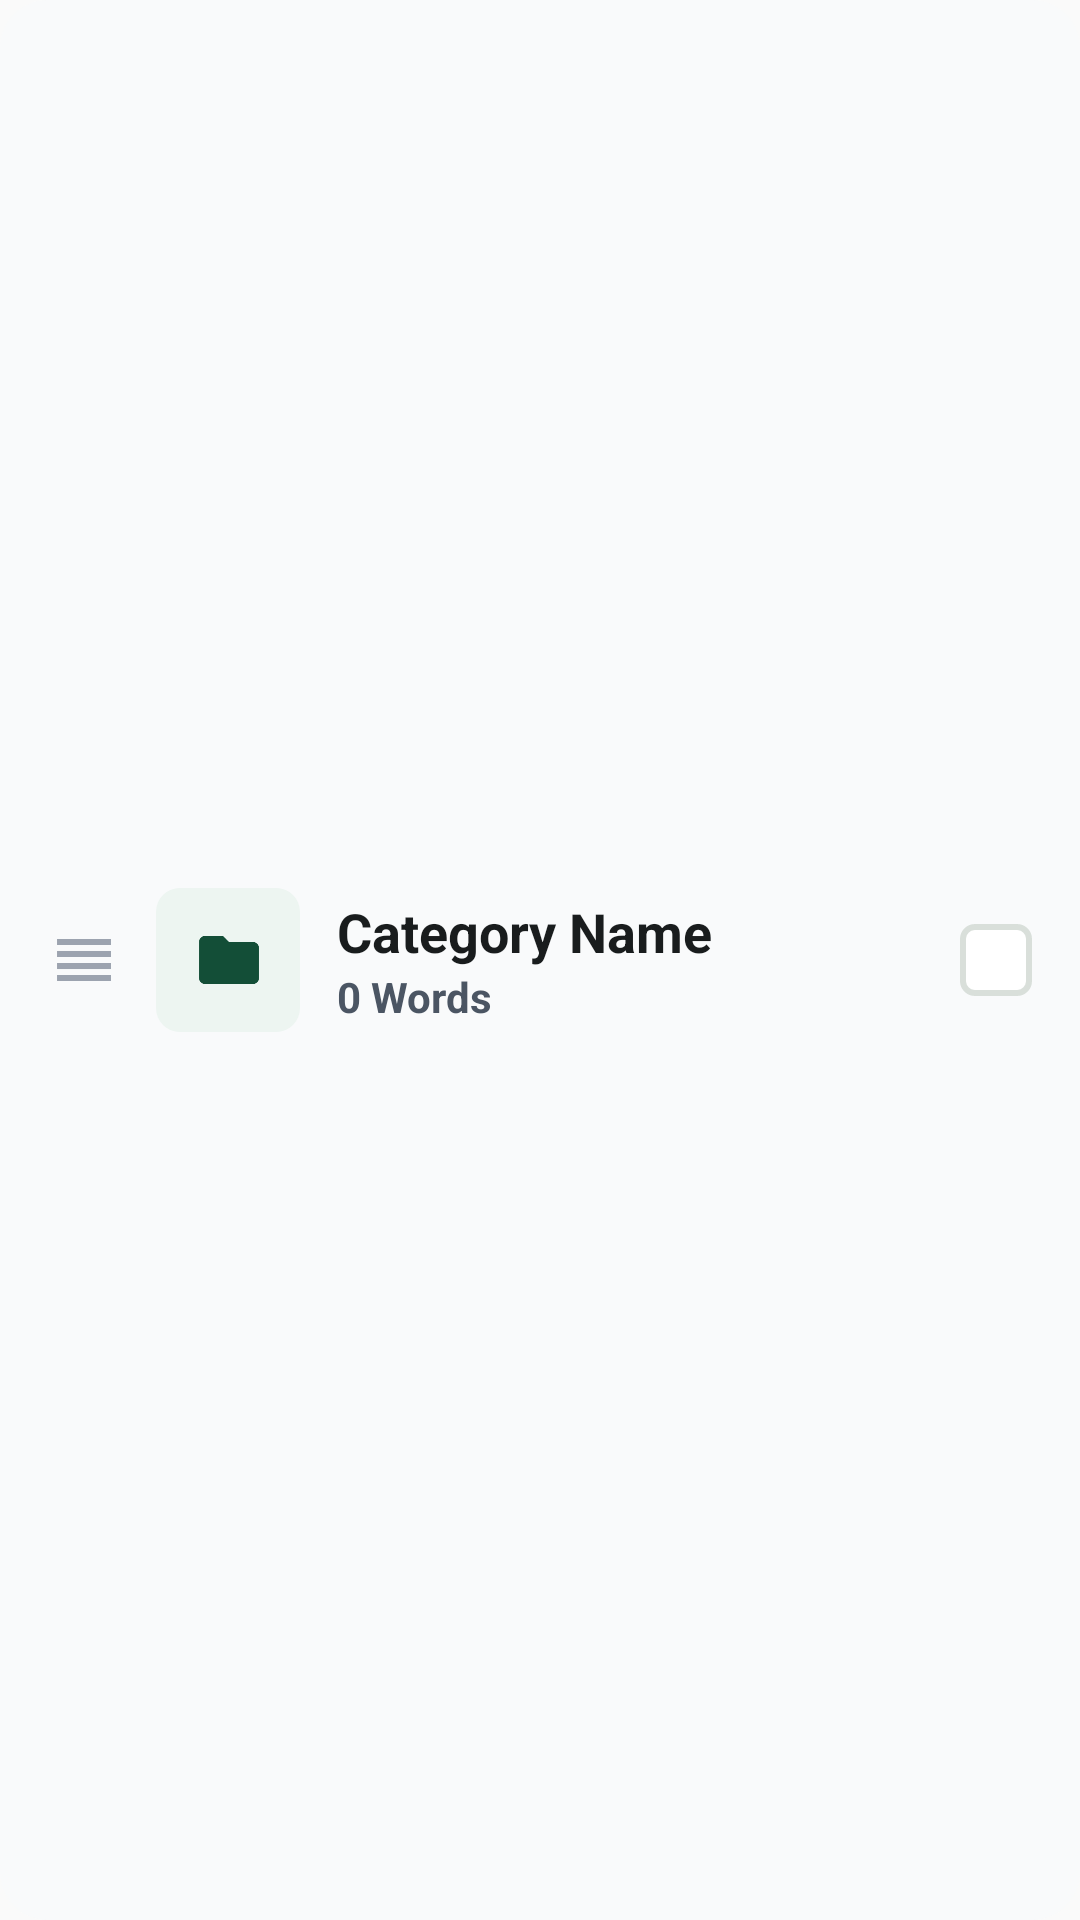

Icons on this 1080x1920 Android screen, each with the point to tap as point (x, y):
folder: point (229, 960)
Reorder: point (84, 960)
